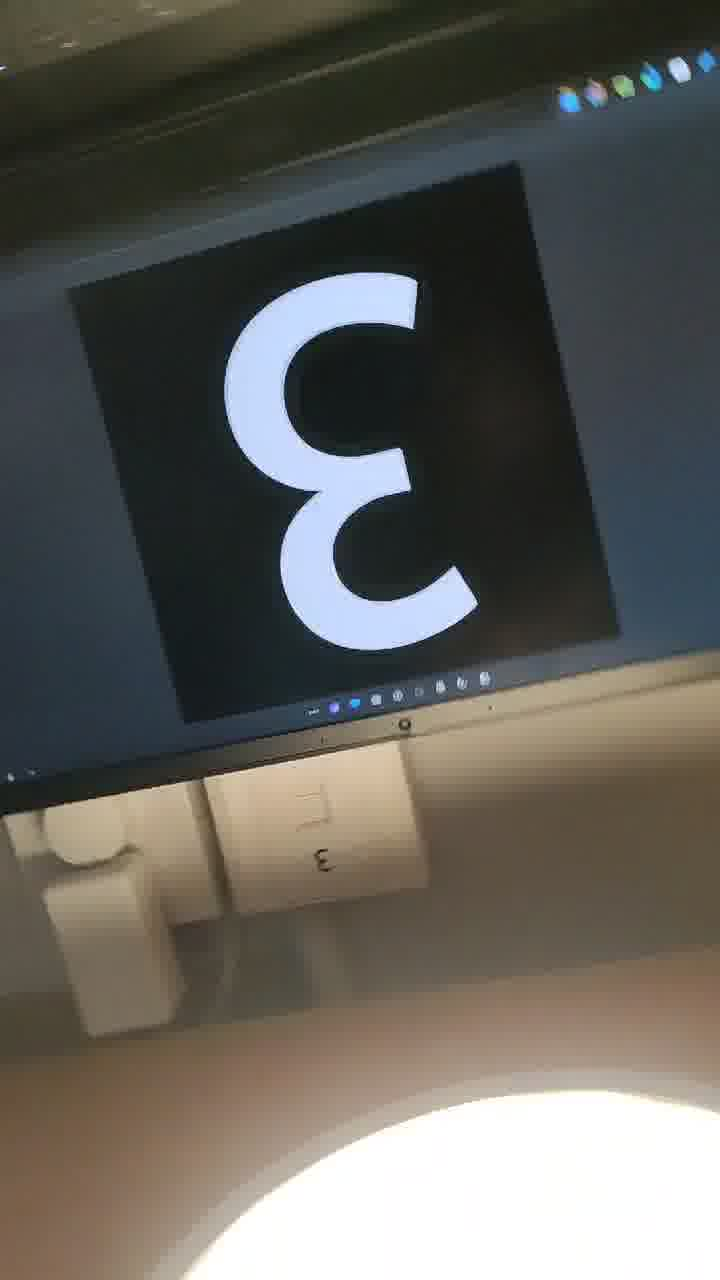three: (150, 241, 505, 683)
